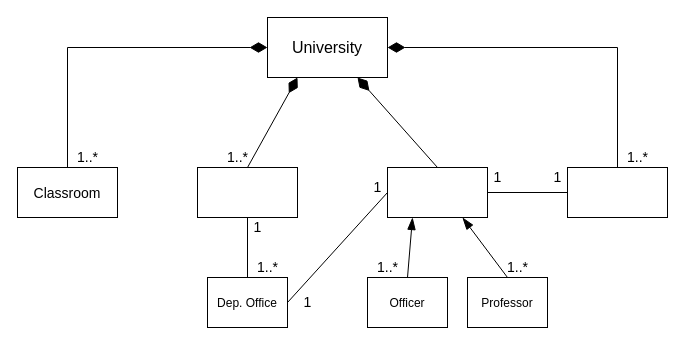
This 685x345 diagram has some shape labels left out. The shapes that lost their labels are listed below. From the top down, each one's centre as x and y in pixels, then its label:
At point (247, 192): "Department".
At point (437, 192): "Employee".
At point (617, 192): "Office".
